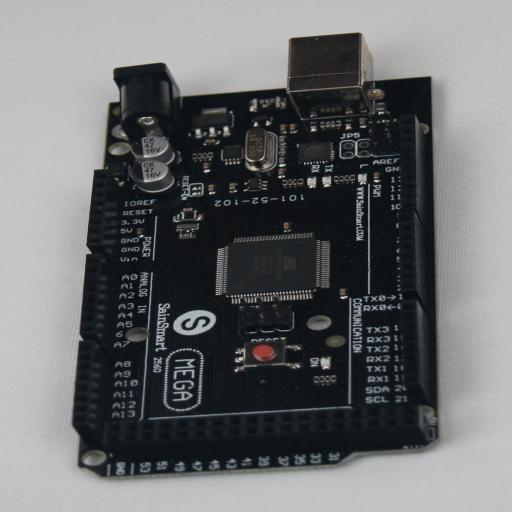Arduino Mega 2560 -Black-: (72, 33, 439, 477)
